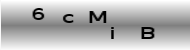6: (31, 7, 46, 21)
B: (140, 26, 156, 41)
M: (87, 10, 107, 24)
c: (60, 13, 75, 24)
i: (109, 25, 116, 41)
